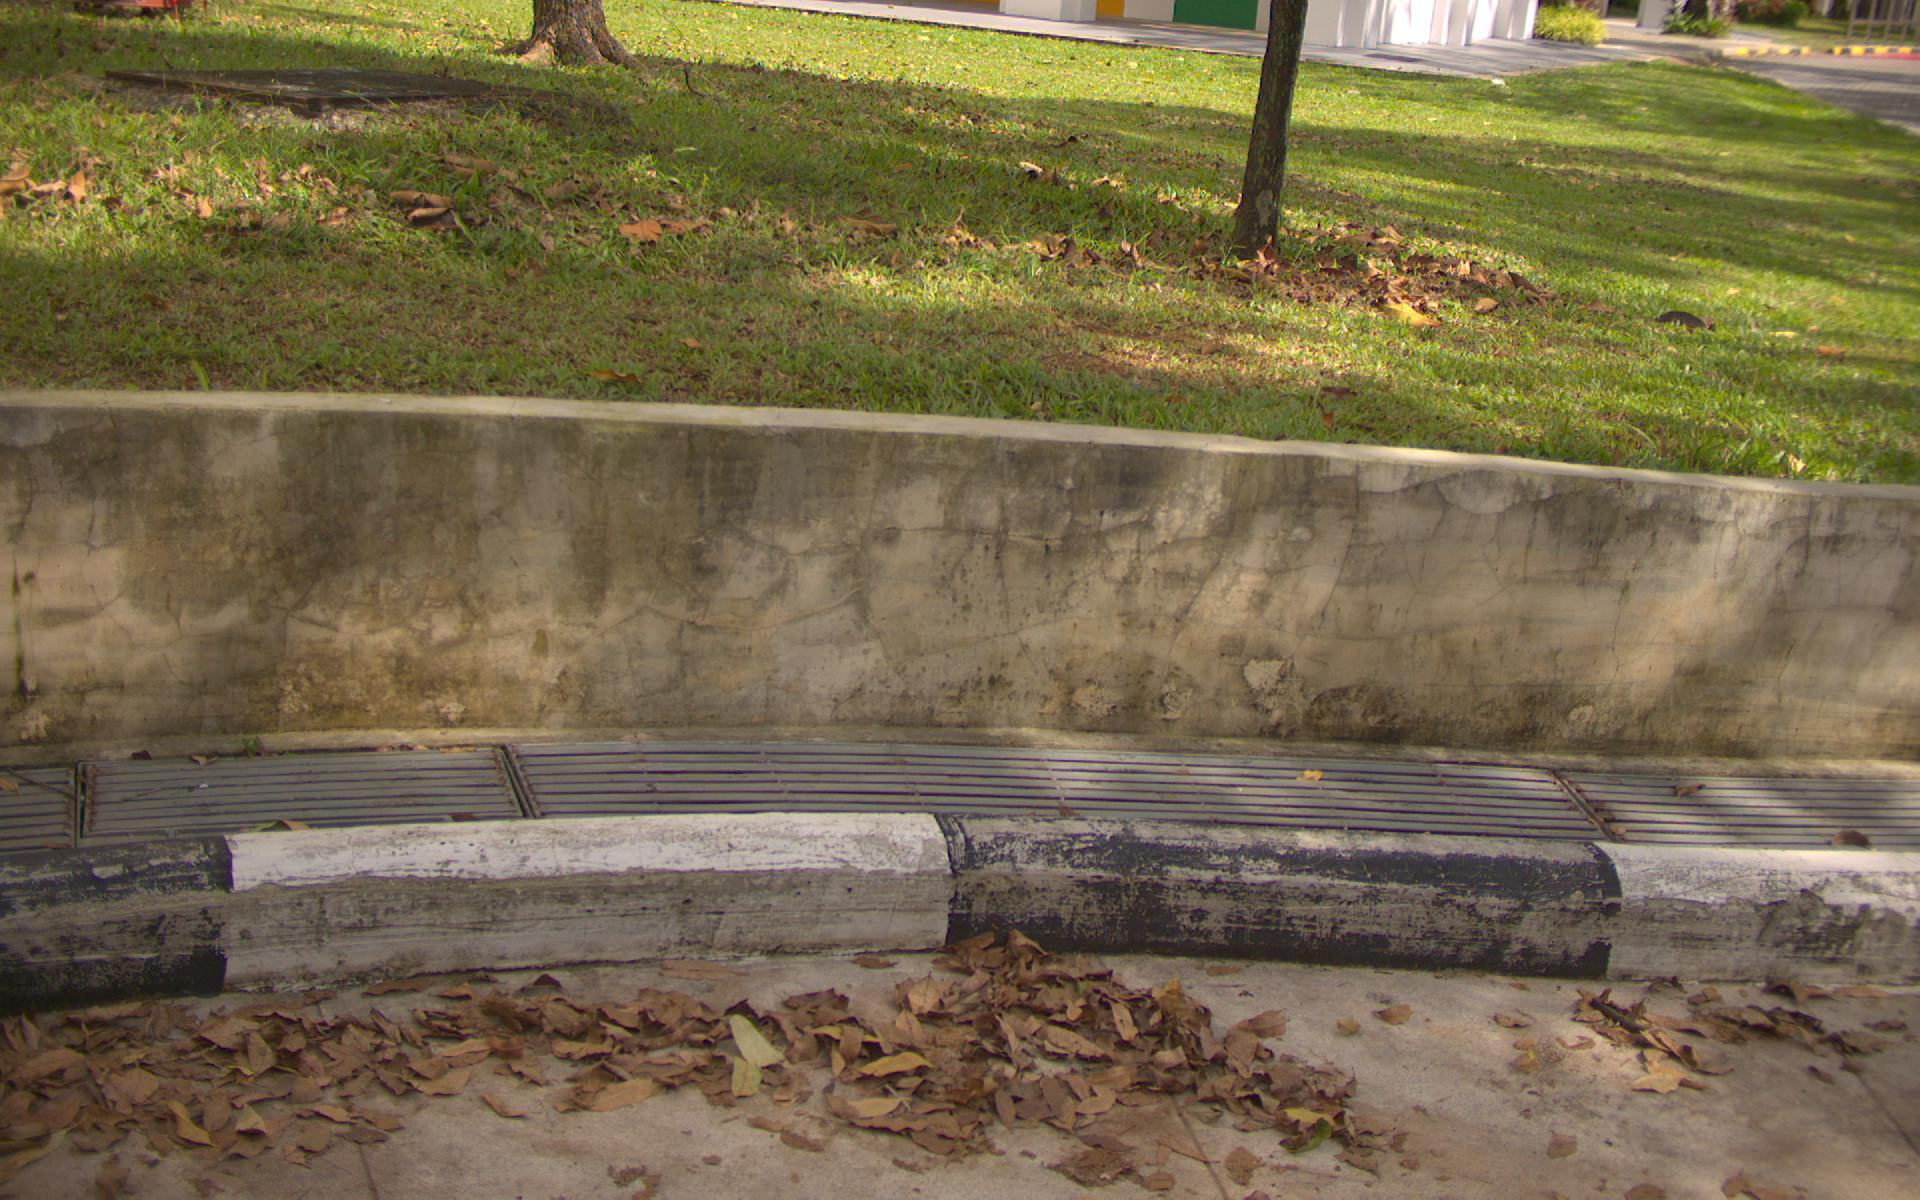curb_dic_low: (376, 718, 1920, 845)
road_curb_medium: (135, 1001, 1920, 1183)
road_turf_low: (28, 88, 1814, 375)
